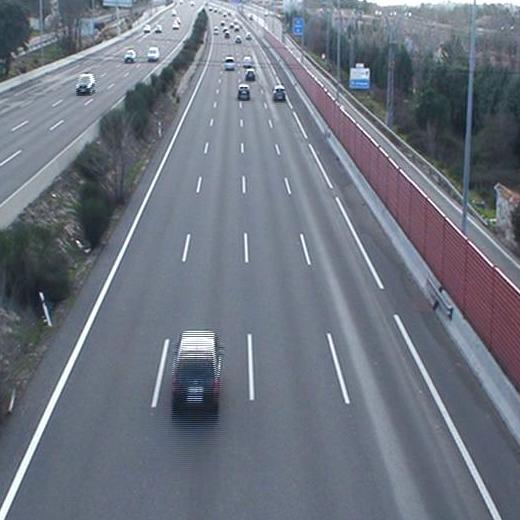car: (171, 331, 224, 416), (236, 83, 251, 100), (273, 85, 287, 103), (243, 68, 258, 84), (223, 57, 236, 71), (240, 56, 252, 69)
